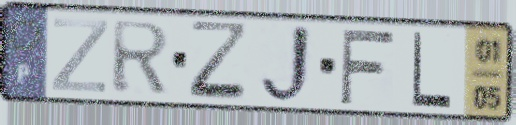F: (337, 26, 397, 107)
J: (256, 21, 316, 108)
L: (409, 29, 455, 112)
R: (108, 19, 173, 96)
Z: (187, 18, 253, 105), (48, 15, 112, 95)
